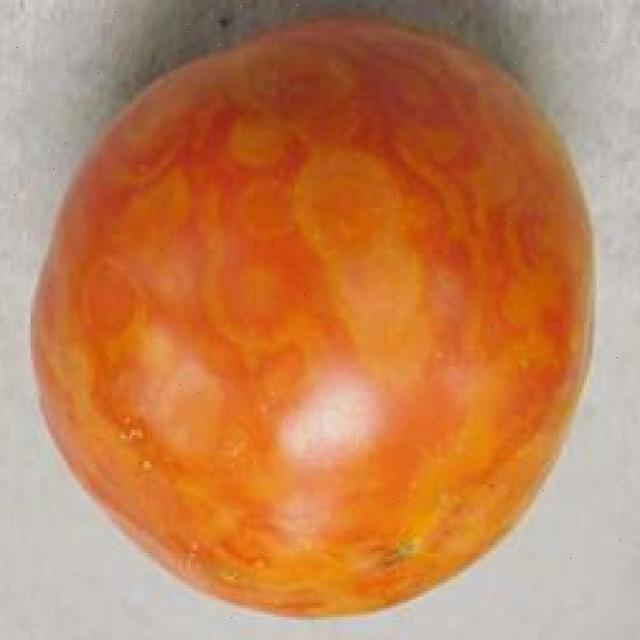Spotted wilt Virus Fruit: (20, 14, 397, 416)
